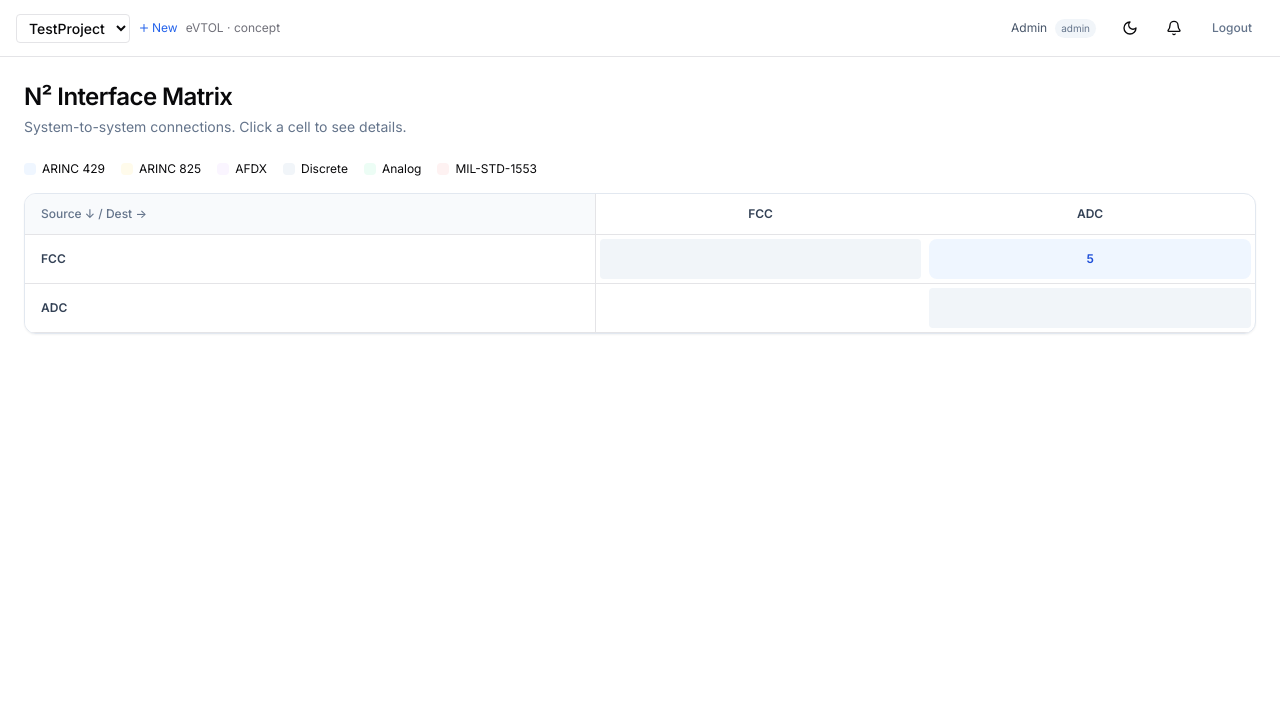
Test: N2 Matrix Page › clicking a cell shows detail panel
This screenshot has width=1280, height=720.
# Find the cell button with count "5"
Click the button "5" at (1090, 259), box [929, 239, 1251, 279]
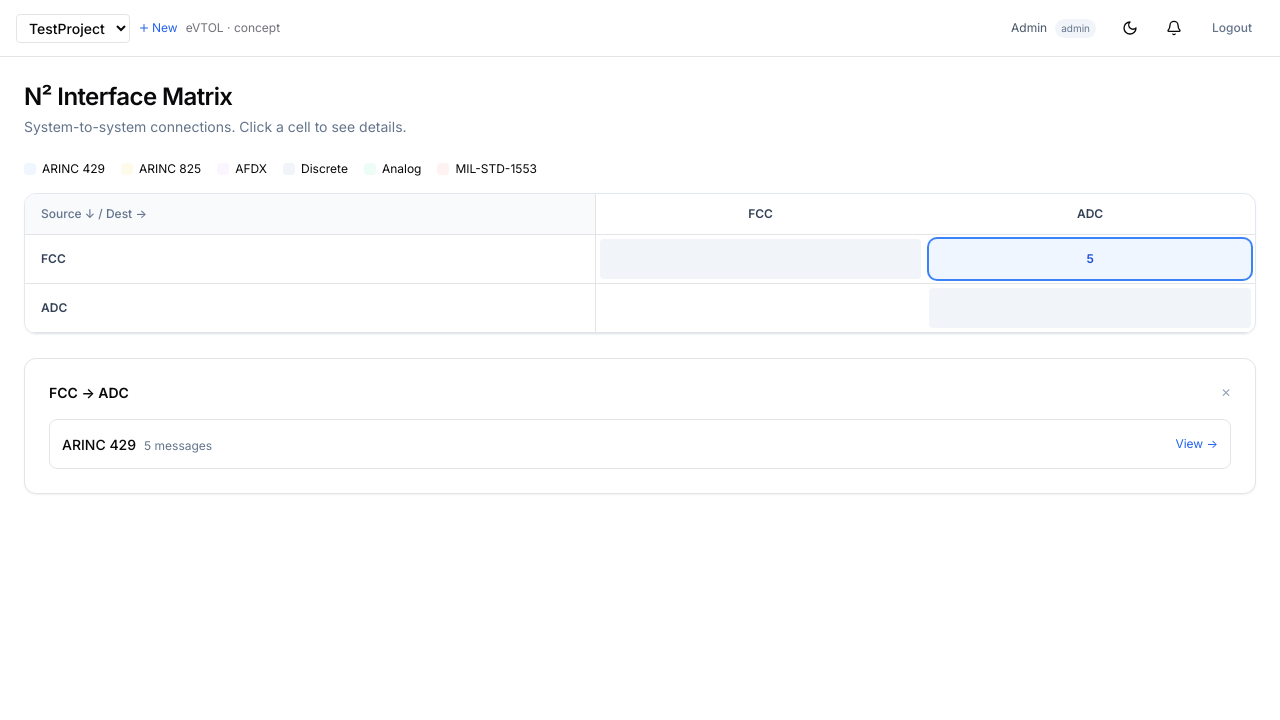
expect the heading "FCC → ADC" is shown: met, box [49, 383, 129, 403]
expect the text "View →" is shown: met, box [1175, 436, 1218, 452]
